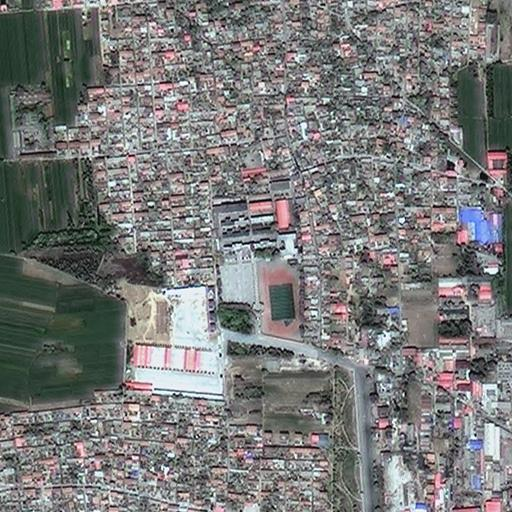school: (211, 193, 300, 343)
